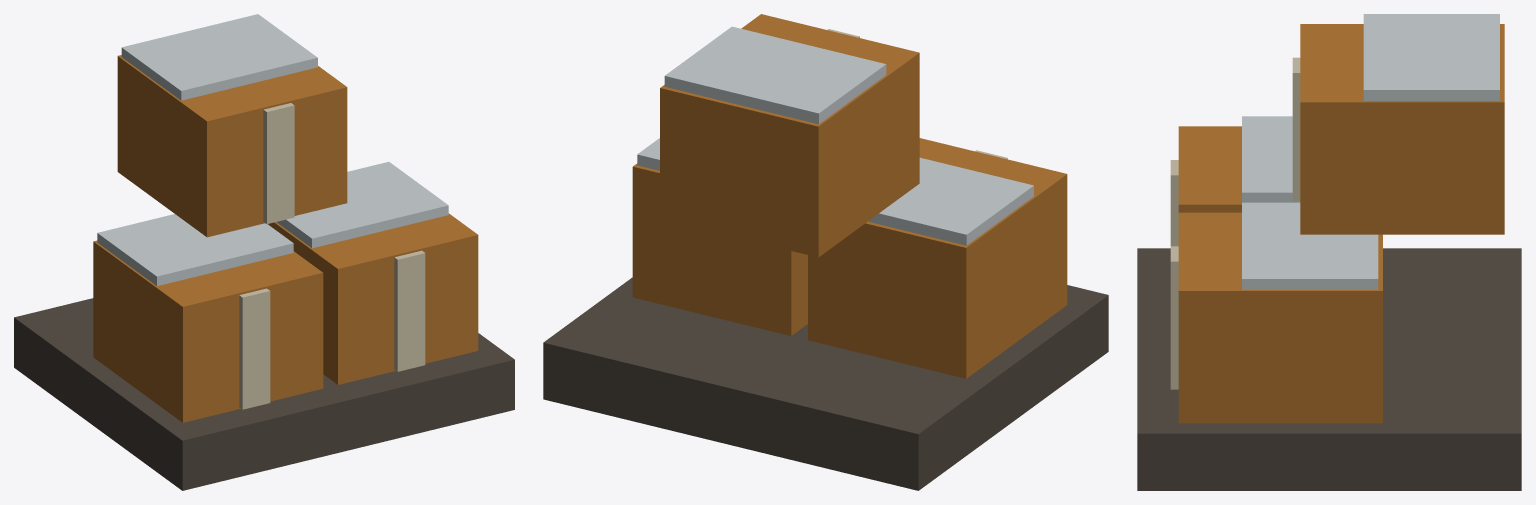
File: ration_cache.glb
3 views of the same model, side by side, from view 1: azimuth 30°, elevation 25°; view 2: azimuth 150°, elevation 25°; view 3: azimuth 270°, elevation 25° (orthographic). The views are drawn at different scales.
Parts seen in each view (by area): view 1: ration_cache; view 2: ration_cache; view 3: ration_cache.
Part boxes in pixels (bbox=[...]): ration_cache: bbox=[14, 14, 514, 490]; ration_cache: bbox=[543, 14, 1108, 490]; ration_cache: bbox=[1137, 14, 1521, 490].
Bounding box in the file's own units: 0.9 × 0.785 × 0.79.
